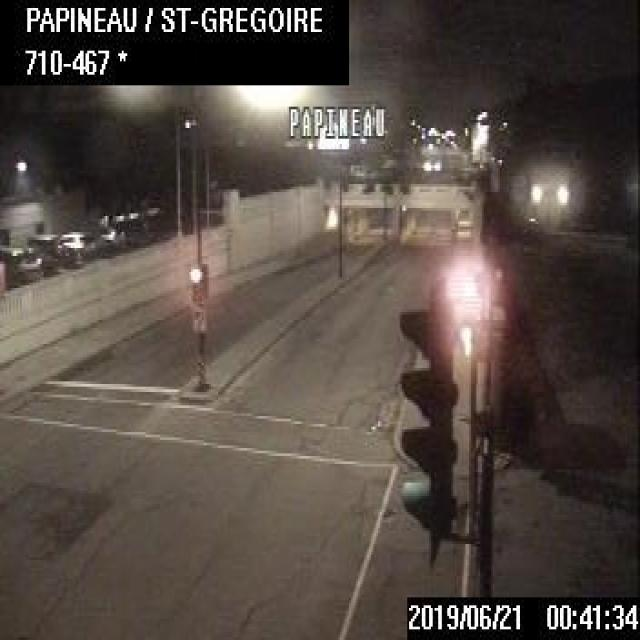vehicle: (54, 226, 94, 262)
